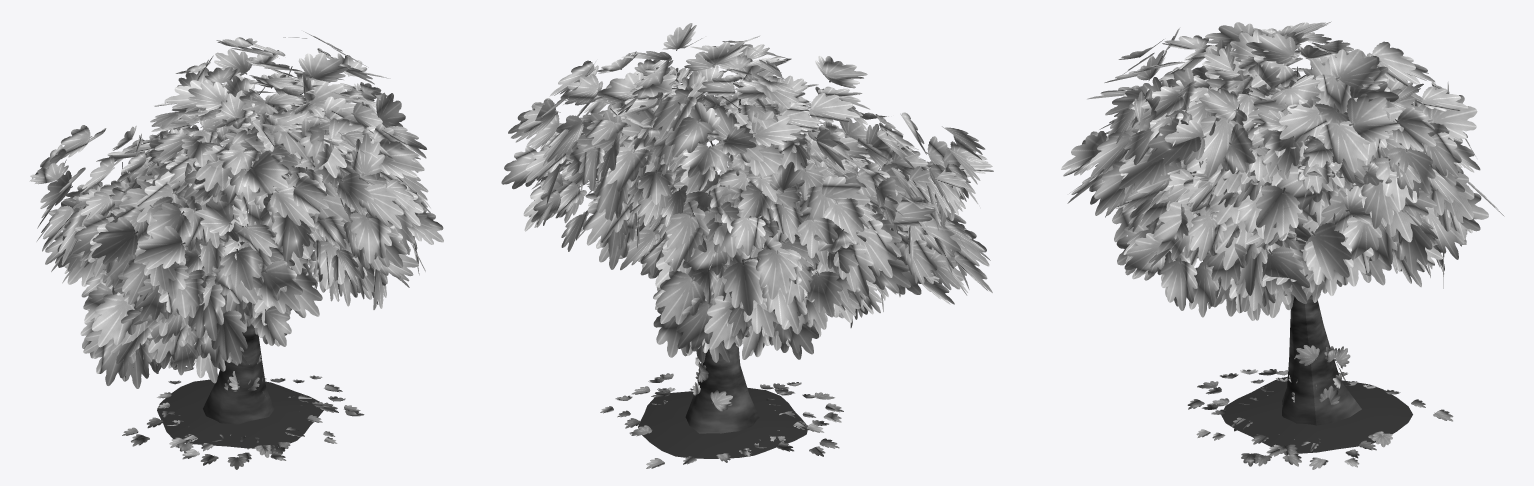
The model's file is tree_payment_002_meshopt.glb.
The picture shows the model from 3 angles, left to right: view 1: azimuth 30°, elevation 25°; view 2: azimuth 150°, elevation 25°; view 3: azimuth 270°, elevation 25°; orthographic projection. The views are drawn at different scales.
Visible parts, largest first — view 1: lobe_17, lobe_06, lobe_10, lobe_09, lobe_12, lobe_00, lobe_01, Ground, lobe_13, lobe_03, Bark, Litter (+4 smaller); view 2: lobe_13, lobe_00, lobe_11, lobe_04, lobe_02, lobe_17, lobe_07, Ground, lobe_10, lobe_01, lobe_15, Bark (+6 smaller); view 3: lobe_11, lobe_09, lobe_03, lobe_14, lobe_00, lobe_04, Ground, lobe_06, Bark, Litter, lobe_10, lobe_17 (+2 smaller).
Part boxes in pixels (left/top/right/bottom): lobe_17: left=72, top=179, right=278, bottom=341; lobe_06: left=239, top=133, right=423, bottom=299; lobe_10: left=147, top=89, right=352, bottom=246; lobe_09: left=252, top=72, right=428, bottom=221; lobe_12: left=114, top=238, right=322, bottom=371; lobe_00: left=150, top=42, right=348, bottom=160; lobe_01: left=80, top=274, right=251, bottom=388; Ground: left=157, top=379, right=323, bottom=448; lobe_13: left=30, top=125, right=164, bottom=271; lobe_03: left=302, top=180, right=443, bottom=309; Bark: left=98, top=66, right=319, bottom=424; Litter: left=122, top=355, right=364, bottom=469; lobe_13: left=682, top=161, right=897, bottom=329; lobe_00: left=613, top=42, right=819, bottom=177; lobe_11: left=508, top=51, right=713, bottom=201; lobe_04: left=501, top=96, right=676, bottom=269; lobe_02: left=640, top=238, right=840, bottom=362; lobe_17: left=842, top=112, right=993, bottom=231; lobe_07: left=619, top=138, right=764, bottom=291; Ground: left=638, top=387, right=807, bottom=458; lobe_10: left=672, top=44, right=870, bottom=170; lobe_01: left=850, top=197, right=992, bottom=327; lobe_15: left=671, top=127, right=872, bottom=257; Bark: left=596, top=95, right=909, bottom=433; lobe_11: left=1251, top=59, right=1477, bottom=228; lobe_09: left=1119, top=39, right=1309, bottom=224; lobe_03: left=1116, top=168, right=1305, bottom=320; lobe_14: left=1199, top=173, right=1391, bottom=318; lobe_00: left=1202, top=21, right=1435, bottom=138; lobe_04: left=1302, top=103, right=1488, bottom=281; Ground: left=1221, top=377, right=1412, bottom=453; lobe_06: left=1061, top=89, right=1210, bottom=258; Bark: left=1238, top=66, right=1361, bottom=425; Litter: left=1187, top=345, right=1453, bottom=469; lobe_10: left=1132, top=22, right=1325, bottom=140; lobe_17: left=1087, top=27, right=1234, bottom=133.
Bounding box in the file's own units: 6.65 × 5.57 × 6.09.
3 materials, 2 textured.
